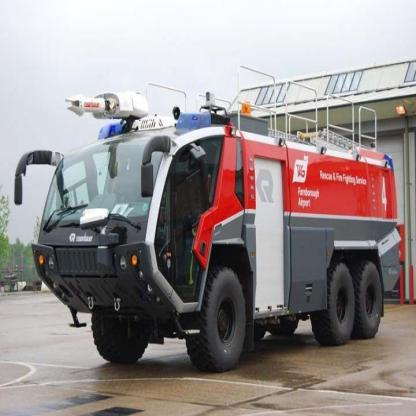fire-truck: (5, 76, 416, 384)
